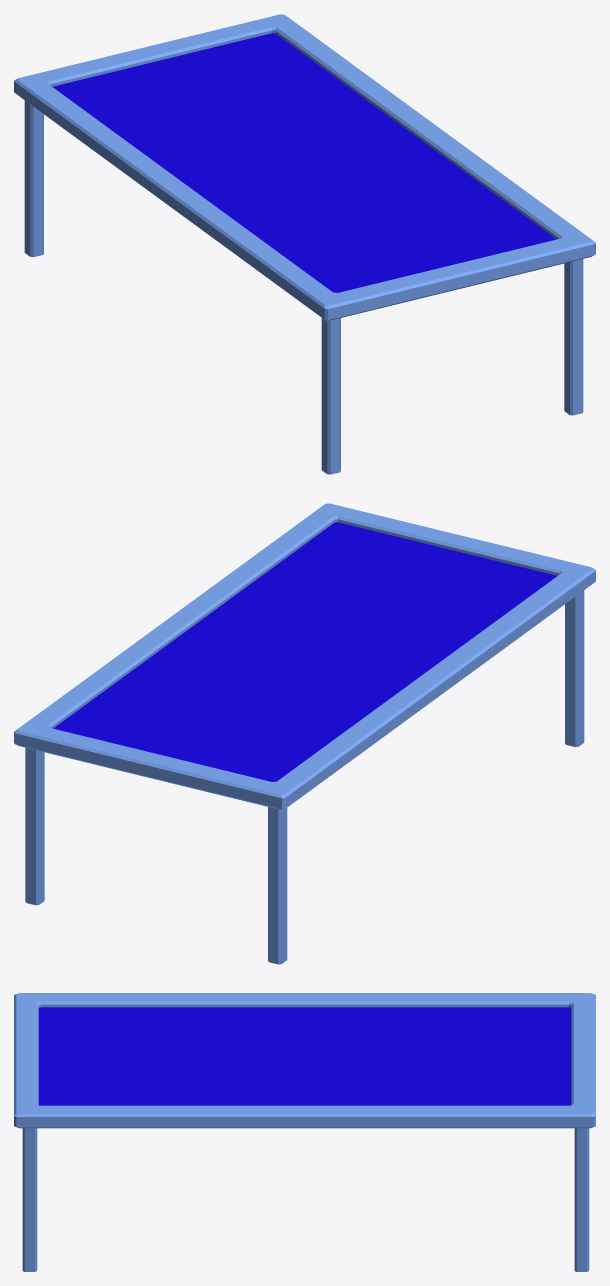
The model's file is CoffeeTable.fbx.
The picture shows the model from 3 angles, top to bottom: view 1: azimuth 30°, elevation 25°; view 2: azimuth 150°, elevation 25°; view 3: azimuth 270°, elevation 25°; orthographic projection. The views are drawn at different scales.
Visible parts, largest first — view 1: CoffeeTable_Glass, CoffeeTable; view 2: CoffeeTable_Glass, CoffeeTable; view 3: CoffeeTable_Glass, CoffeeTable.
Boxes of the visible parts, bbox=[...] form: CoffeeTable_Glass: bbox=[52, 33, 556, 292]; CoffeeTable: bbox=[14, 14, 595, 474]; CoffeeTable_Glass: bbox=[53, 522, 556, 781]; CoffeeTable: bbox=[14, 503, 595, 964]; CoffeeTable_Glass: bbox=[38, 1007, 571, 1105]; CoffeeTable: bbox=[14, 993, 595, 1271].
Bounding box in the file's own units: 100 × 60.85 × 200.
